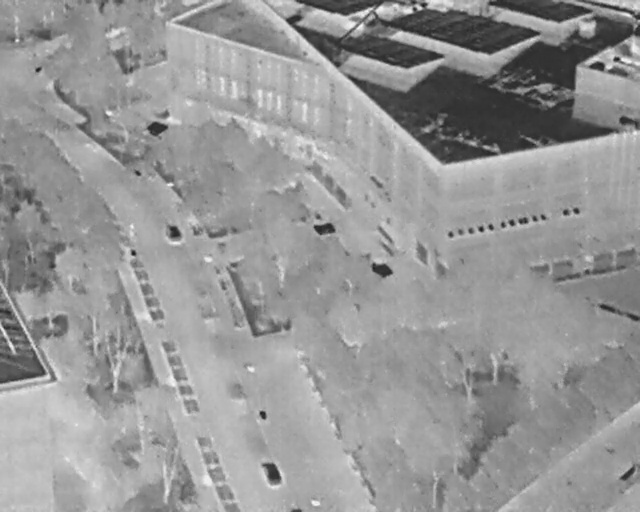Car: (259, 457, 284, 488), (163, 222, 183, 243), (288, 508, 304, 512)
